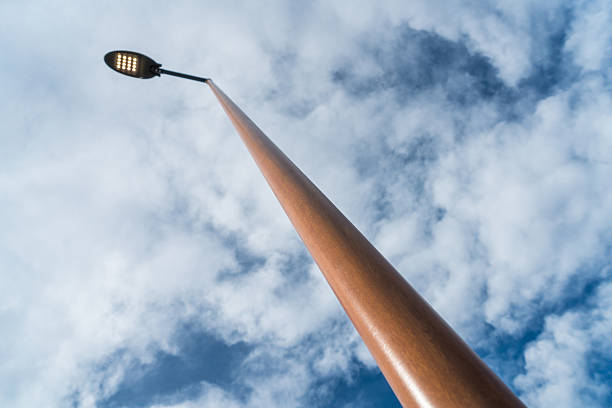light_pole: (202, 68, 534, 408)
